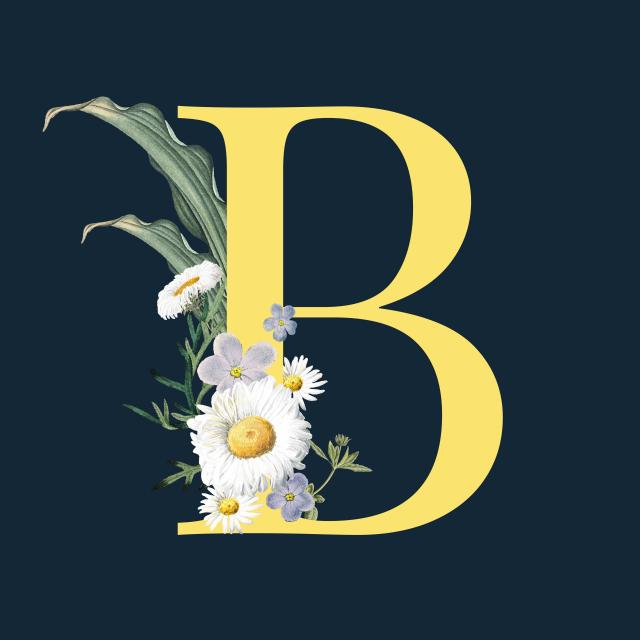B: (69, 48, 535, 560)
